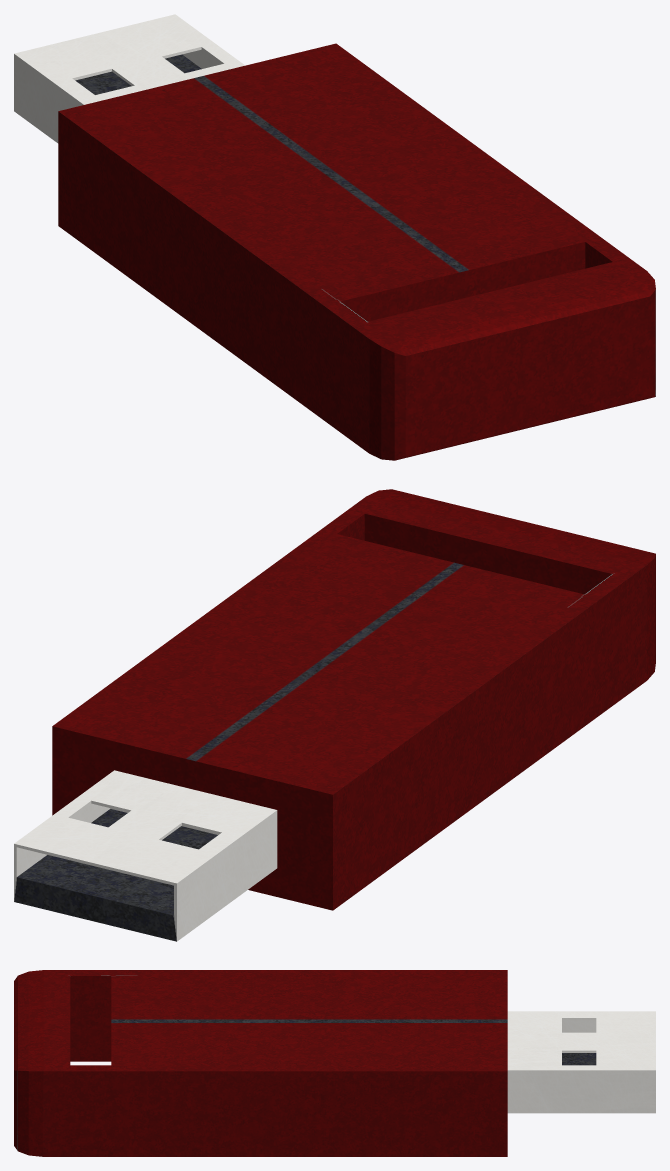
File: Eledrive.gltf
3 views of the same model, one above another, from view 1: azimuth 30°, elevation 25°; view 2: azimuth 150°, elevation 25°; view 3: azimuth 270°, elevation 25° (orthographic). The views are drawn at different scales.
Visible parts, largest first — view 1: Cube.001; view 2: Cube.001; view 3: Cube.001.
Part boxes in pixels (x1=…): Cube.001: x1=14, y1=14, x2=655, y2=460; Cube.001: x1=14, y1=489, x2=655, y2=941; Cube.001: x1=14, y1=970, x2=655, y2=1156.
Size of the model in its own units: 0.7 by 0.2761 by 1.88.
Materials: 1 (1 with a texture image).
